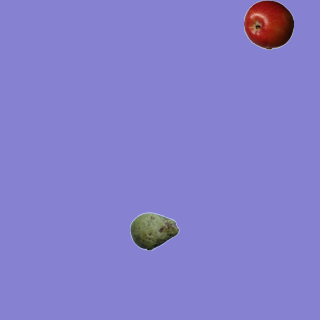Apple Braeburn: (243, 0, 293, 49)
Pear Stone: (129, 206, 179, 256)
